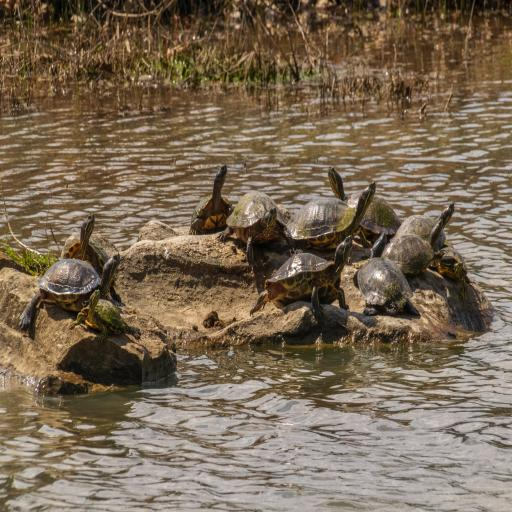turtles: (250, 236, 353, 323), (19, 253, 120, 341), (286, 182, 375, 250), (217, 191, 295, 267), (353, 258, 419, 316), (189, 164, 233, 235), (62, 214, 108, 276), (356, 195, 402, 248), (394, 203, 454, 242), (433, 247, 469, 301), (328, 166, 362, 208), (433, 230, 446, 252)
